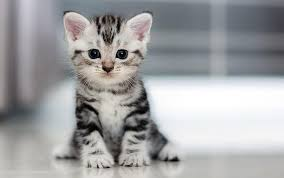cat: (59, 9, 157, 88)
